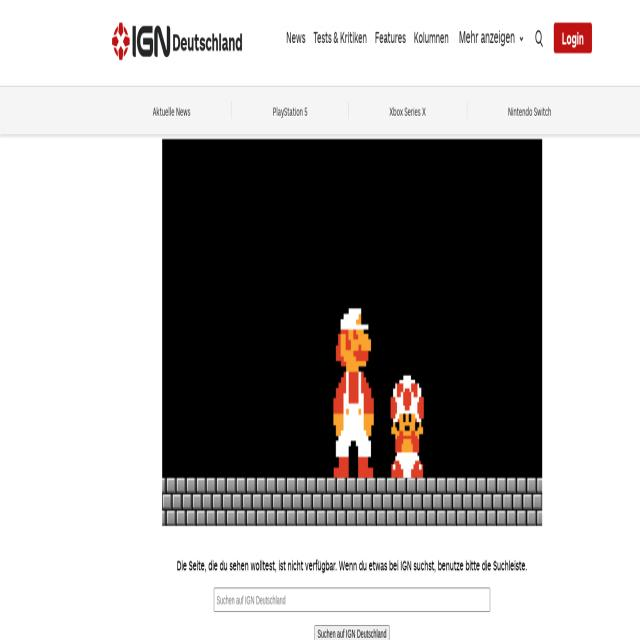button: (455, 23, 526, 56), (112, 23, 170, 60), (310, 24, 369, 54), (410, 24, 454, 57), (314, 624, 389, 640), (554, 22, 592, 53), (371, 24, 408, 54), (280, 22, 309, 51), (529, 22, 549, 56)
field: (214, 588, 491, 613)
